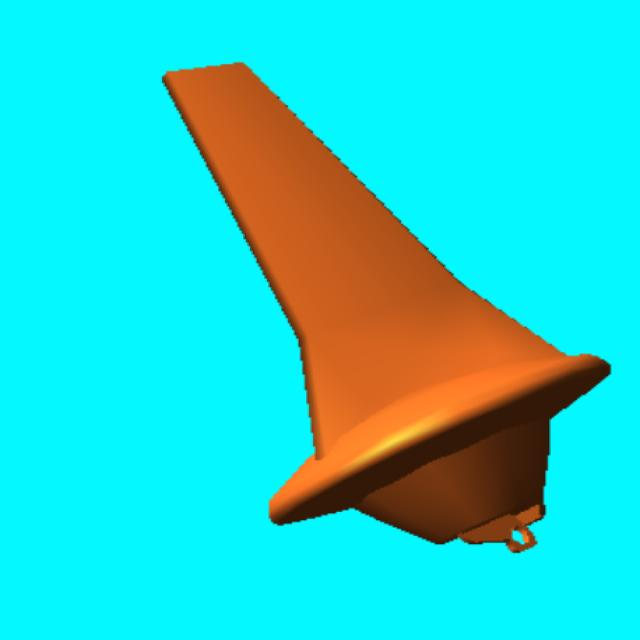OrangeBuoy: (165, 64, 608, 552)
